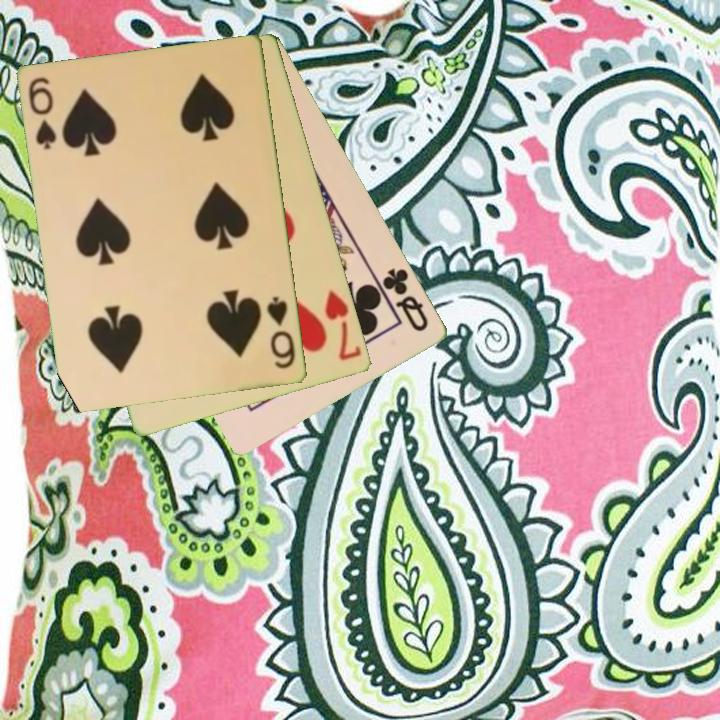6s: (263, 293, 299, 372), (25, 74, 60, 153)
7h: (322, 287, 365, 364)
Qc: (373, 264, 432, 335)
